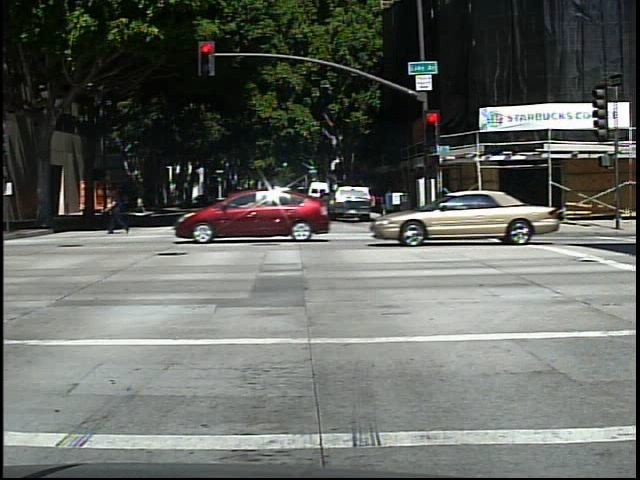person: (102, 184, 131, 236)
